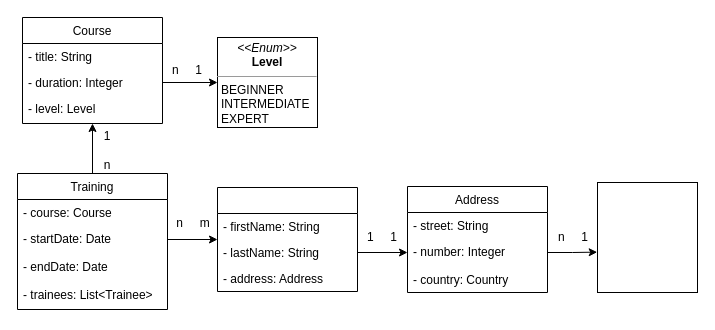
Some shapes in this 715 by 330 pixel diagram are drawn without their labels. The shapes that lost their labels are listed below. From the top down, each one's box as (x1, y1, x2, y2) in pixels, then its label:
(216, 186, 358, 292): Trainee
(596, 182, 698, 292): <<Enum>> Country GERMANY FRANCE NETHERLANDS USA
